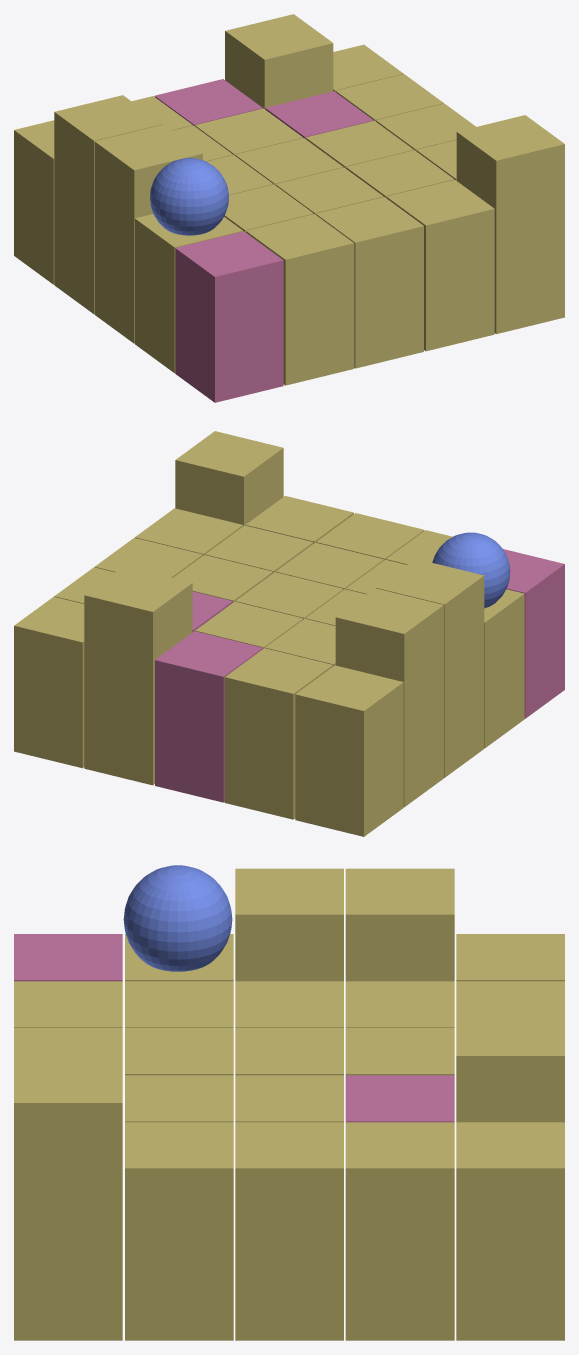
The model's file is ProbnoOkruzenje.fbx.
3 renders of one model, top to bottom at view 1: azimuth 30°, elevation 25°; view 2: azimuth 150°, elevation 25°; view 3: azimuth 270°, elevation 25°, orthographic. The views are drawn at different scales.
Visible parts, largest first — view 1: Cube.024, Cube.004, Cube.009, Cube.019, Cube.014, Cube.002, Cube.001, Cube.015, Cube.003, Cube.254, Sphere, Cube.018 (+14 smaller); view 2: Cube.015, Cube.254, Cube.001, Cube.005, Cube.010, Cube.020, Cube.002, Cube.024, Cube.004, Cube.003, Sphere, Cube.019 (+14 smaller); view 3: Cube.024, Cube.021, Cube.020, Cube.022, Cube.023, Cube.001, Cube.002, Cube.015, Sphere, Cube.011, Cube.016, Cube.254 (+12 smaller).
Boxes of the visible parts, x1,y1,x2,y2 form: Cube.024: (456, 115, 564, 333); Cube.004: (175, 231, 283, 402); Cube.009: (246, 214, 354, 385); Cube.019: (386, 180, 494, 351); Cube.014: (315, 197, 423, 368); Cube.002: (94, 124, 202, 343); Cube.001: (54, 95, 162, 314); Cube.015: (225, 14, 333, 109); Cube.003: (135, 214, 242, 373); Cube.254: (14, 120, 54, 284); Sphere: (150, 158, 228, 235); Cube.018: (346, 150, 454, 197); Cube.015: (84, 566, 192, 785); Cube.254: (295, 665, 403, 836); Cube.001: (335, 588, 443, 807); Cube.005: (224, 648, 332, 819); Cube.010: (155, 631, 263, 802); Cube.020: (14, 596, 84, 768); Cube.002: (376, 558, 484, 777); Cube.024: (175, 431, 283, 525); Cube.004: (503, 549, 564, 718); Cube.003: (484, 589, 524, 748); Sphere: (432, 532, 510, 608); Cube.019: (245, 496, 353, 543); Cube.024: (14, 1057, 122, 1340); Cube.021: (345, 1122, 454, 1340); Cube.020: (456, 1122, 564, 1340); Cube.022: (235, 1122, 343, 1340); Cube.023: (125, 1122, 233, 1340); Cube.001: (345, 868, 454, 981); Cube.002: (235, 868, 343, 981); Cube.015: (456, 1010, 564, 1122); Sphere: (123, 865, 232, 971); Cube.011: (345, 1028, 454, 1075); Cube.016: (345, 1075, 454, 1122); Cube.254: (456, 934, 564, 981).
Bounding box in the file's own units: 5.1 × 2.63 × 5.07.
